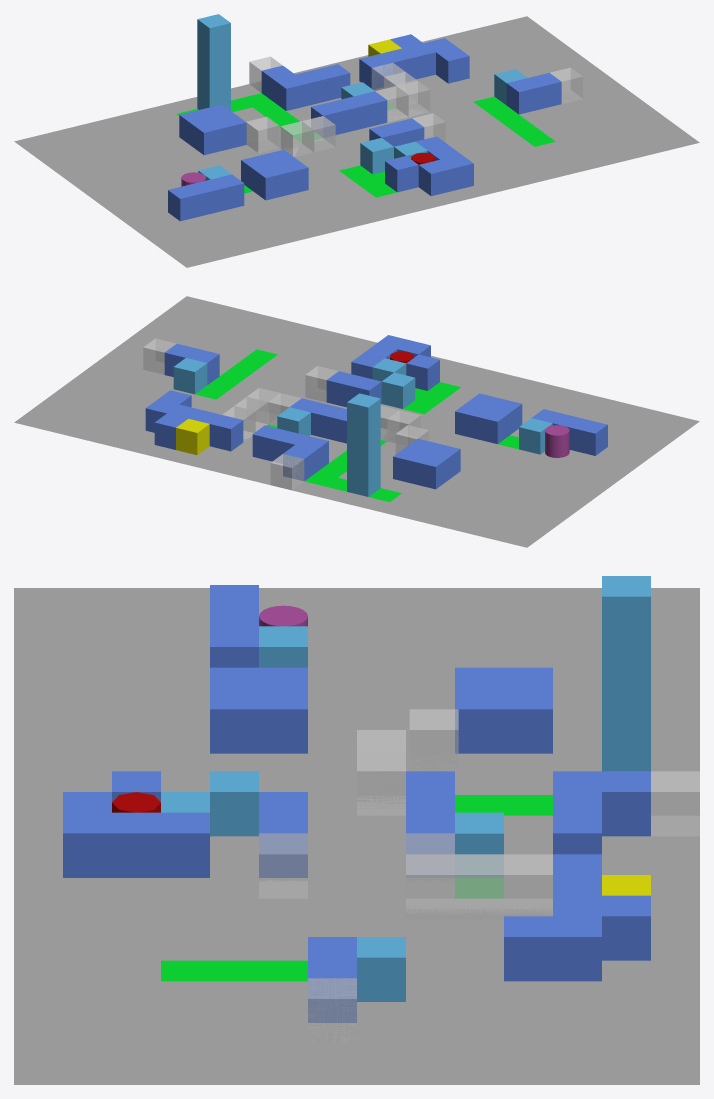
The model's file is Level1_Blockout_V1.fbx.
3 views of the same model, one above another, from view 1: azimuth 30°, elevation 25°; view 2: azimuth 150°, elevation 25°; view 3: azimuth 270°, elevation 25° (orthographic). The views are drawn at different scales.
Parts seen in each view (by area): view 1: L1B_Floor, L1B_Wall_008, L1B_Wall_025, L1B_Wall_032, L1B_Wall_030, L1B_Transparent_009, L1B_Wall_013, L1B_Wall_024, L1B_Movable_005, L1B_Wall_001, L1B_Wall_004, L1B_Transparent_010 (+32 smaller); view 2: L1B_Floor, L1B_Wall_019, L1B_Movable_007, L1B_Movable_008, L1B_Wall_010, L1B_Transparent_002, L1B_Wall_006, L1B_Wall_001, L1B_Movable_005, L1B_PotionBook, L1B_Wall_012, L1B_Wall_030 (+33 smaller); view 3: L1B_Floor, L1B_Wall_005, L1B_Wall_007, L1B_Wall_009, L1B_Wall_011, L1B_Wall_012, L1B_Wall_022, L1B_Wall_023, L1B_Wall_024, L1B_Wall_026, L1B_Wall_028, L1B_Wall_029 (+44 smaller).
Part boxes in pixels (<box>): L1B_Floor: <box>14,16,699,267</box>; L1B_Wall_008: <box>191,119,225,155</box>; L1B_Wall_025: <box>506,78,540,114</box>; L1B_Wall_032: <box>418,160,452,196</box>; L1B_Wall_030: <box>385,156,418,192</box>; L1B_Transparent_009: <box>280,121,314,157</box>; L1B_Wall_013: <box>274,74,307,110</box>; L1B_Wall_024: <box>436,47,469,83</box>; L1B_Movable_005: <box>197,14,230,50</box>; L1B_Wall_001: <box>168,185,201,221</box>; L1B_Wall_004: <box>253,164,286,200</box>; L1B_Transparent_010: <box>246,116,279,152</box>; L1B_Floor: <box>14,296,699,547</box>; L1B_Wall_019: <box>209,415,243,451</box>; L1B_Movable_007: <box>173,358,207,394</box>; L1B_Movable_008: <box>381,372,415,408</box>; L1B_Wall_010: <box>414,453,448,489</box>; L1B_Transparent_002: <box>270,454,304,490</box>; L1B_Wall_006: <box>476,407,509,443</box>; L1B_Wall_001: <box>574,419,607,455</box>; L1B_Movable_005: <box>347,393,380,429</box>; L1B_PotionBook: <box>176,419,209,455</box>; L1B_Wall_012: <box>283,445,316,480</box>; L1B_Wall_030: <box>406,354,439,390</box>; L1B_Floor: <box>14,588,699,1084</box>; L1B_Wall_005: <box>210,688,258,753</box>; L1B_Wall_007: <box>259,688,307,753</box>; L1B_Wall_009: <box>455,688,503,753</box>; L1B_Wall_011: <box>504,688,552,753</box>; L1B_Wall_012: <box>602,771,650,836</box>; L1B_Wall_022: <box>602,895,650,960</box>; L1B_Wall_023: <box>553,916,601,981</box>; L1B_Wall_024: <box>504,916,552,981</box>; L1B_Wall_026: <box>308,957,356,1022</box>; L1B_Wall_028: <box>259,812,307,877</box>; L1B_Wall_029: <box>161,812,209,877</box>.
Size of the model in its own units: 24 by 4 by 14.
